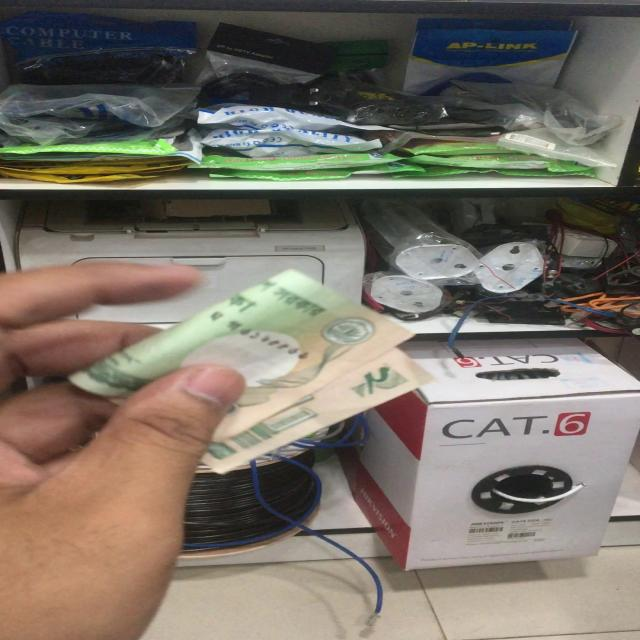Taka: (93, 274, 412, 441)
